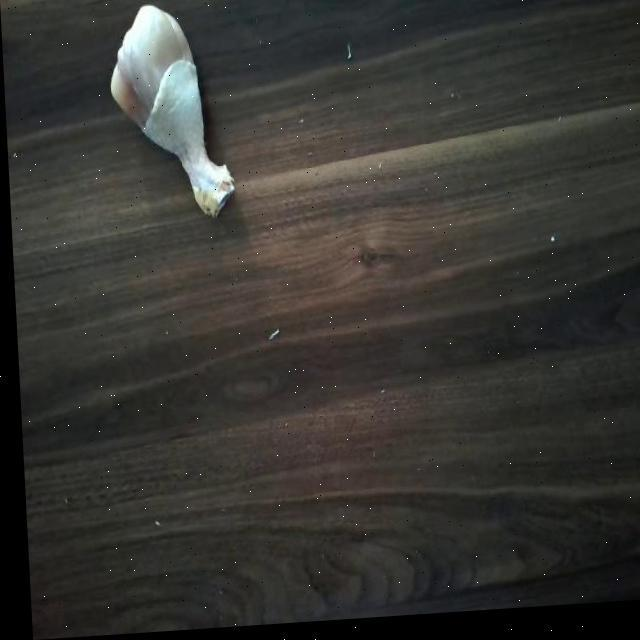leg: (96, 0, 238, 223)
